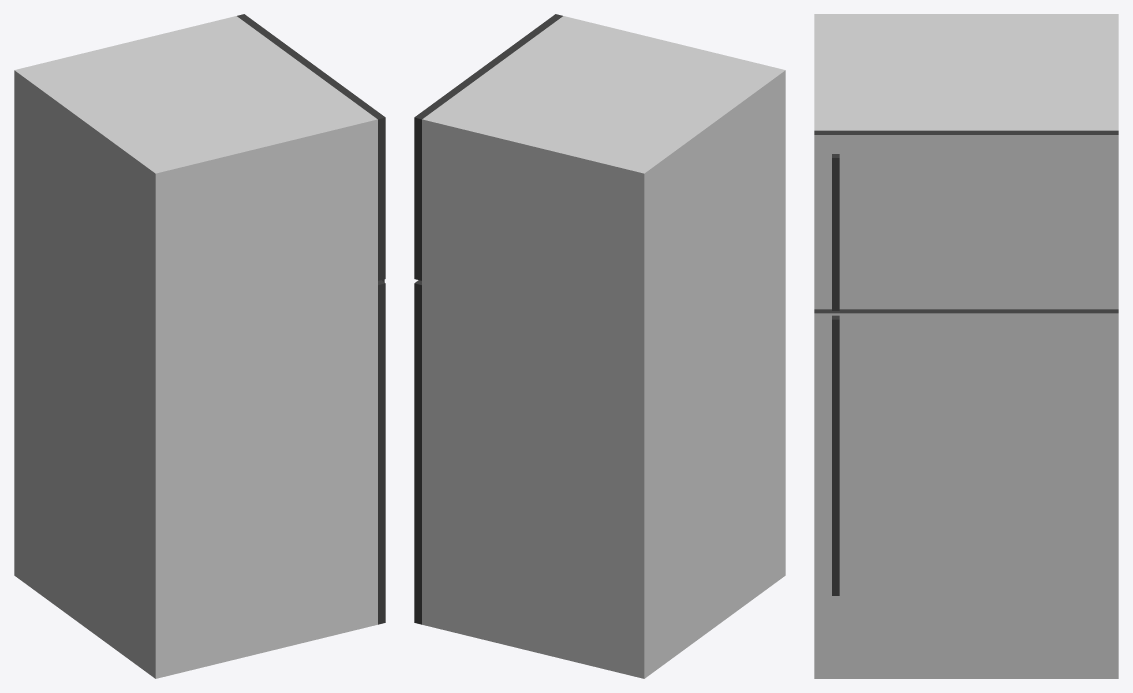
File: FridgeA.fbx
3 views of the same model, side by side, from view 1: azimuth 30°, elevation 25°; view 2: azimuth 150°, elevation 25°; view 3: azimuth 270°, elevation 25° (orthographic). The views are drawn at different scales.
Visible parts, largest first — view 1: FridgeA; view 2: FridgeA; view 3: FridgeA.
Boxes of the visible parts, x1,y1,x2,y2 form: FridgeA: (14,14,385,678); FridgeA: (414,14,785,678); FridgeA: (814,14,1118,678).
Size of the model in its own units: 119 by 243 by 123.
